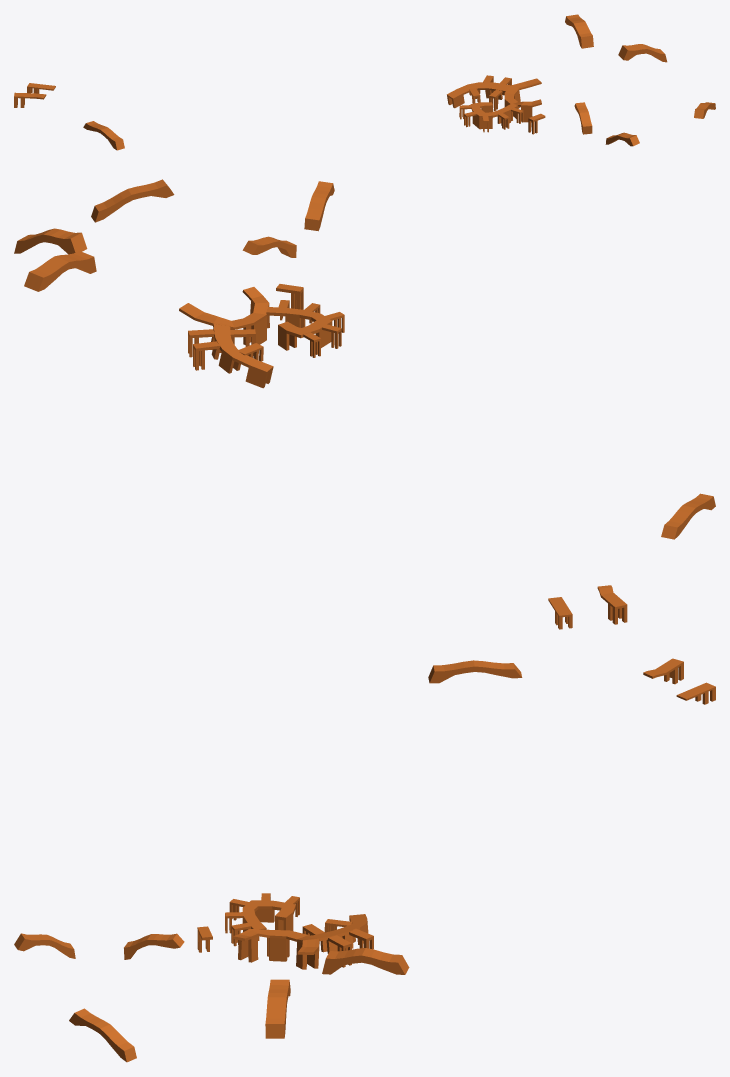
File: docks.glb
3 views of the same model, one above another, from view 1: azimuth 30°, elevation 25°; view 2: azimuth 150°, elevation 25°; view 3: azimuth 270°, elevation 25° (orthographic). The views are drawn at different scales.
Parts seen in each view (by area): view 1: docks_low; view 2: docks_low; view 3: docks_low.
Boxes of the visible parts, left/top/right/bottom form: docks_low: left=14, top=14, right=715, bottom=150; docks_low: left=14, top=179, right=715, bottom=629; docks_low: left=14, top=658, right=715, bottom=1062.
Bounding box in the file's own units: 180 × 16.86 × 137.
